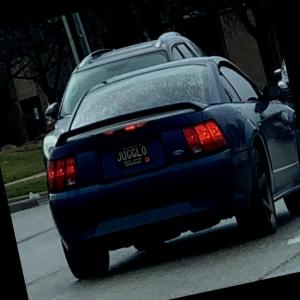Plate: (112, 139, 150, 170)
